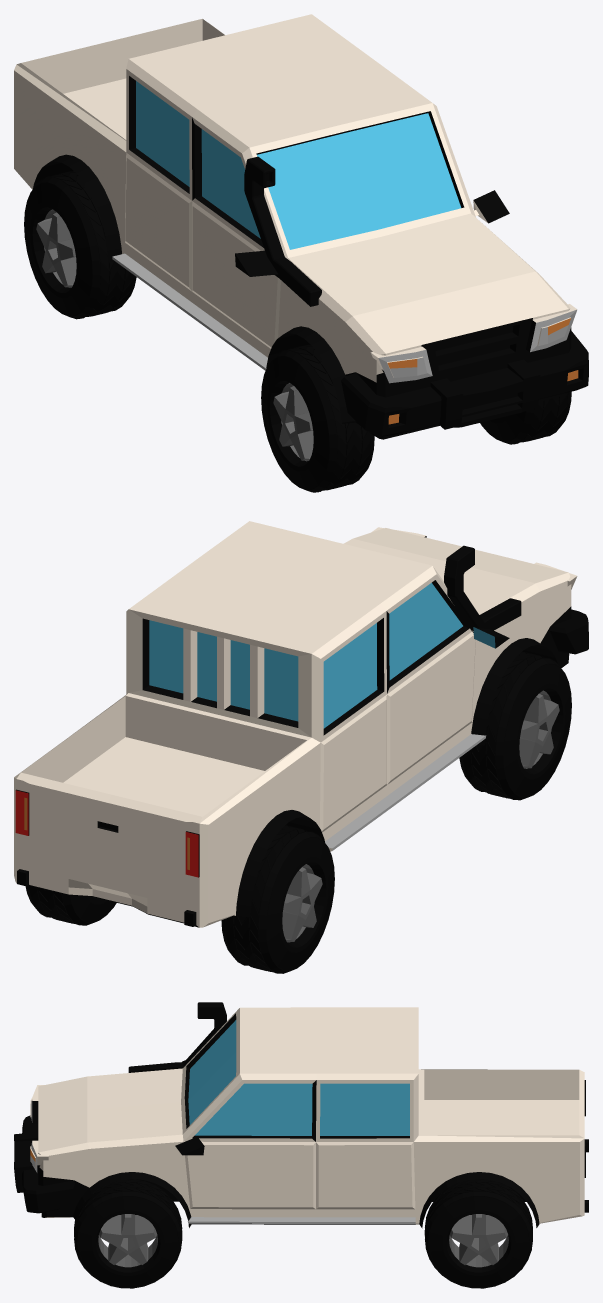
The model's file is toyotahilux_final.fbx.
3 renders of one model, top to bottom at view 1: azimuth 30°, elevation 25°; view 2: azimuth 150°, elevation 25°; view 3: azimuth 270°, elevation 25°, orthographic. The views are drawn at different scales.
Visible parts, largest first — view 1: Car, FR Tyre, RR Tyre, side_air_intake, FL Tyre; view 2: Car, RR Tyre, FR Tyre, side_air_intake, RL Tyre; view 3: Car, RL Tyre, FL Tyre, side_air_intake.
Part boxes in pixels (bbox=[...]): Car: bbox=[14, 14, 588, 439]; FR Tyre: bbox=[261, 344, 374, 492]; RR Tyre: bbox=[24, 171, 136, 319]; side_air_intake: bbox=[244, 156, 321, 306]; FL Tyre: bbox=[480, 391, 571, 444]; Car: bbox=[14, 521, 588, 927]; RR Tyre: bbox=[221, 825, 334, 973]; FR Tyre: bbox=[459, 651, 571, 800]; side_air_intake: bbox=[444, 545, 521, 632]; RL Tyre: bbox=[25, 885, 116, 925]; Car: bbox=[14, 1007, 588, 1228]; RL Tyre: bbox=[424, 1179, 532, 1288]; FL Tyre: bbox=[74, 1179, 182, 1288]; side_air_intake: bbox=[128, 1002, 226, 1072].
Size of the model in its own units: 176 by 181 by 455.
